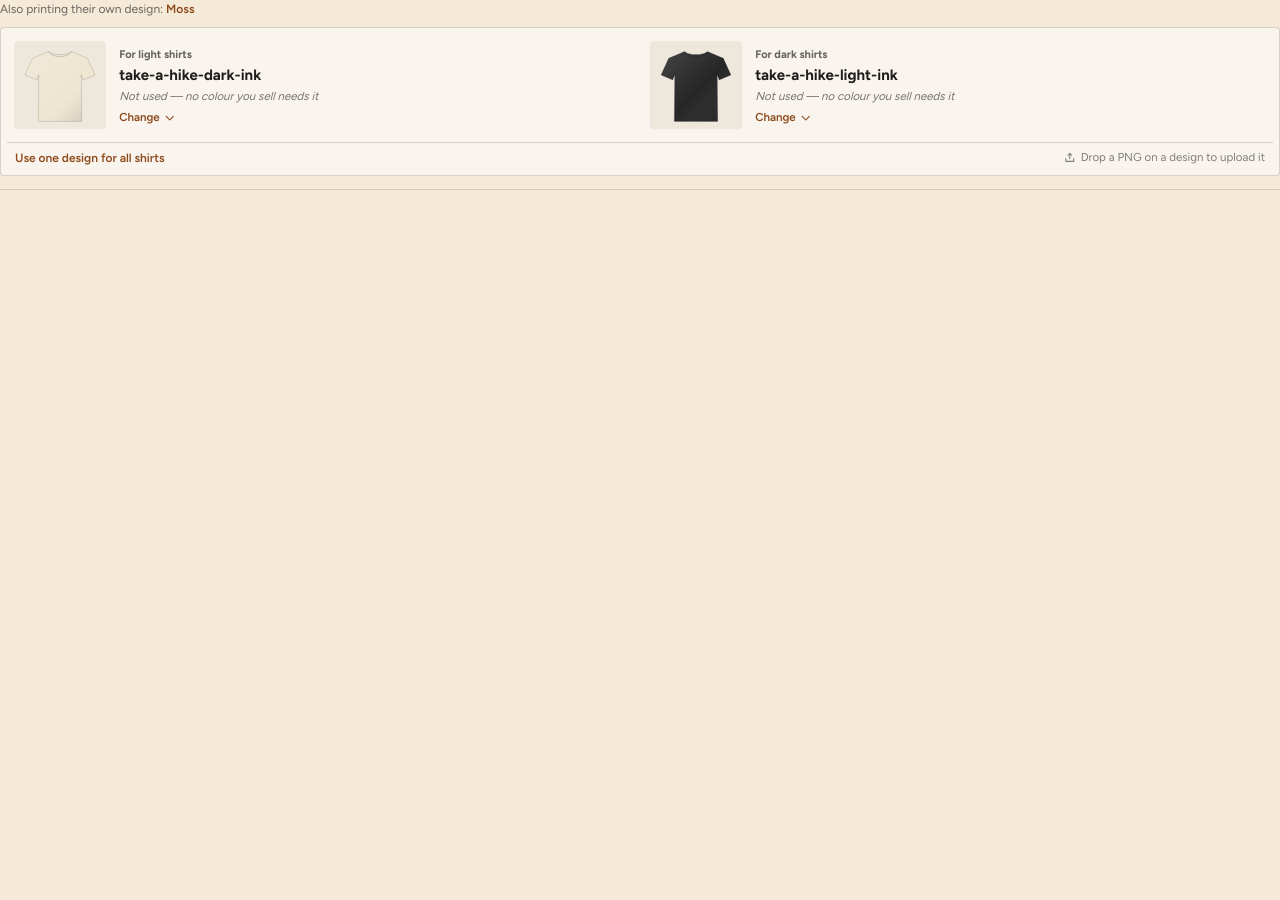
Test case: ArtworkStrip reading one design › notes, when linking two files, which colours keep their own design
This screenshot has width=1280, height=900.
Click the button "Use one design for all shirts" at [90, 158], box x1=15 y1=151 x2=164 y2=165
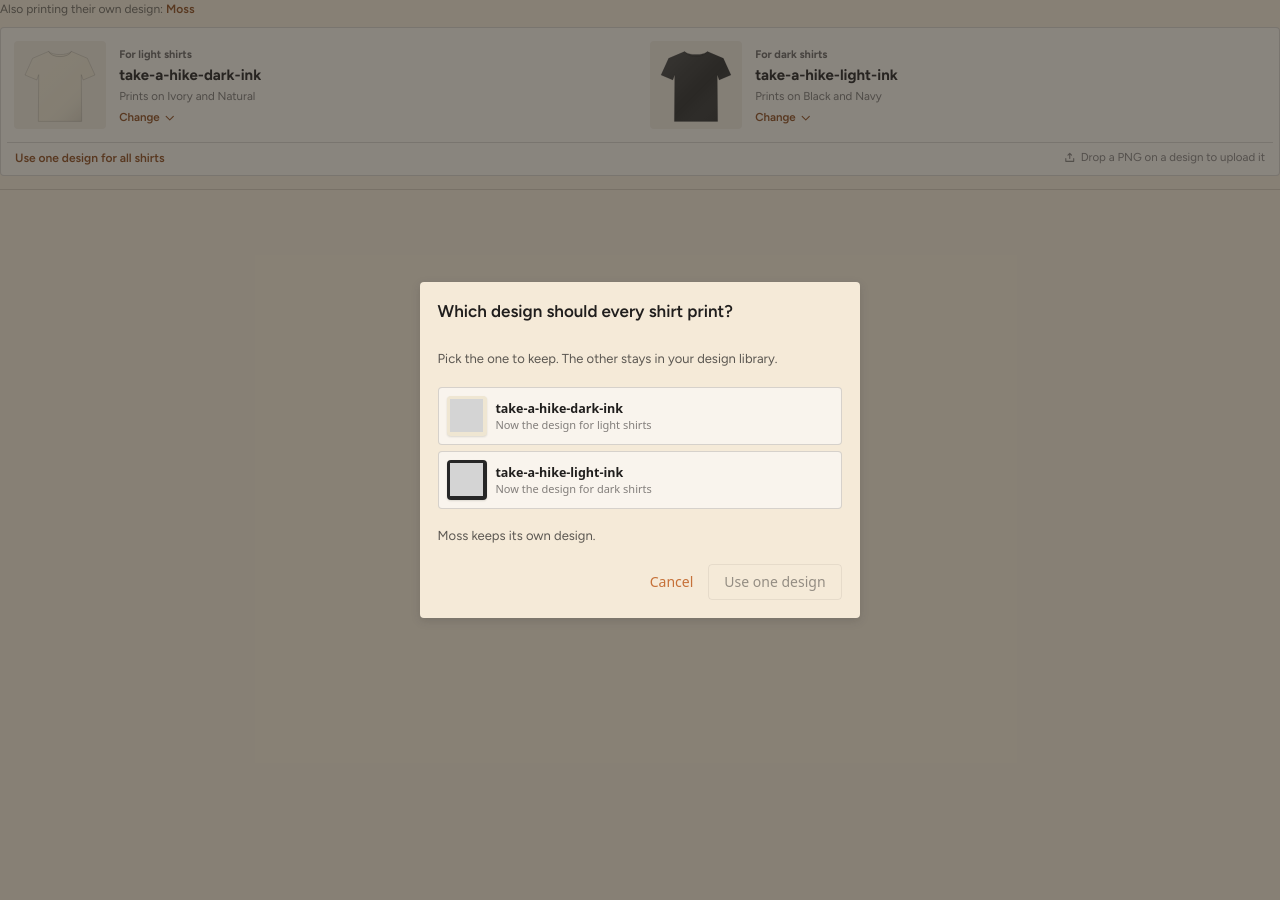
Check: the dialog "Which design should every shirt print?" shows "Moss keeps its own design."
